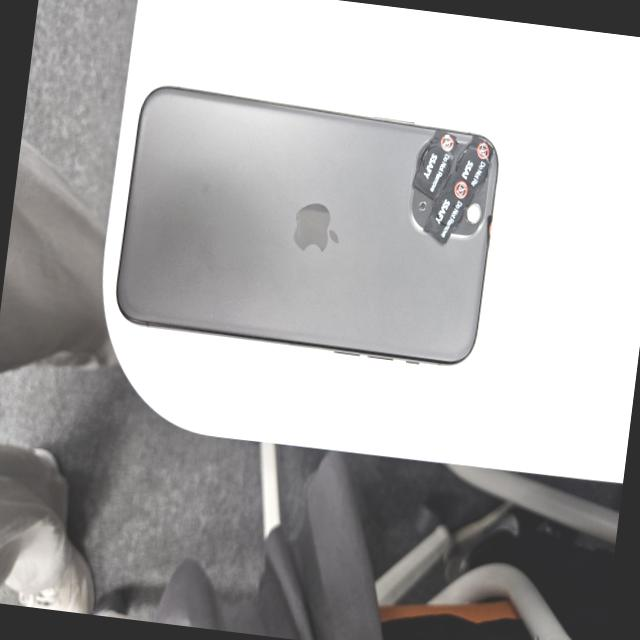phone: (108, 78, 510, 374)
sticker: (420, 173, 474, 248), (412, 130, 458, 195), (453, 134, 495, 188)
